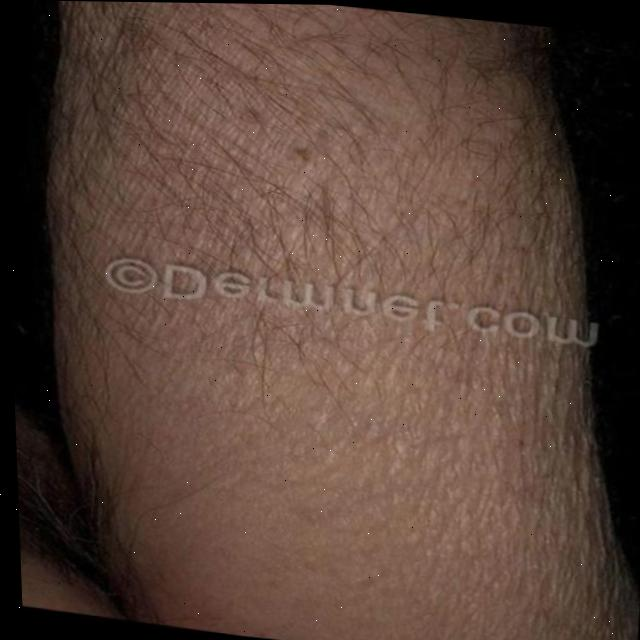Eczema: (135, 149, 571, 593)
